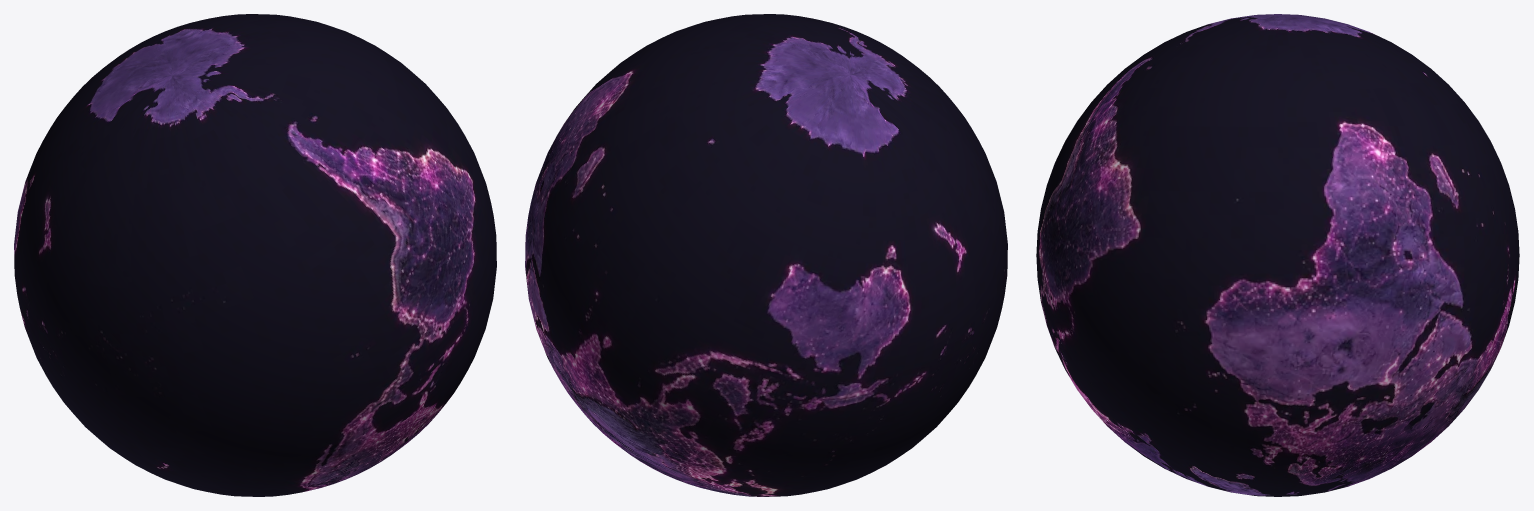
File: earth-orbits.glb
3 renders of one model, left to right at view 1: azimuth 30°, elevation 25°; view 2: azimuth 150°, elevation 25°; view 3: azimuth 270°, elevation 25°, orthographic.
Parts seen in each view (by area): view 1: EarthRevolve; view 2: EarthRevolve; view 3: EarthRevolve.
Boxes of the visible parts, box(x1,y1,x2,y2) form: EarthRevolve: box(14, 14, 496, 496); EarthRevolve: box(525, 14, 1007, 496); EarthRevolve: box(1036, 14, 1519, 496).
Bounding box in the file's own units: 2 × 2 × 2.
Materials: 1 (1 with a texture image).
